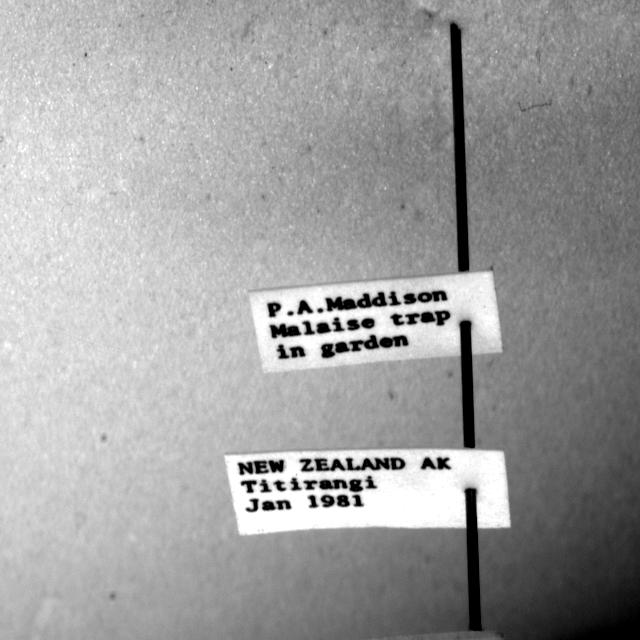typed_label: (250, 272, 502, 373), (225, 448, 510, 534)
